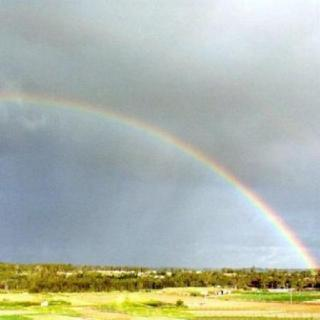Stratus: (0, 0, 320, 271)
